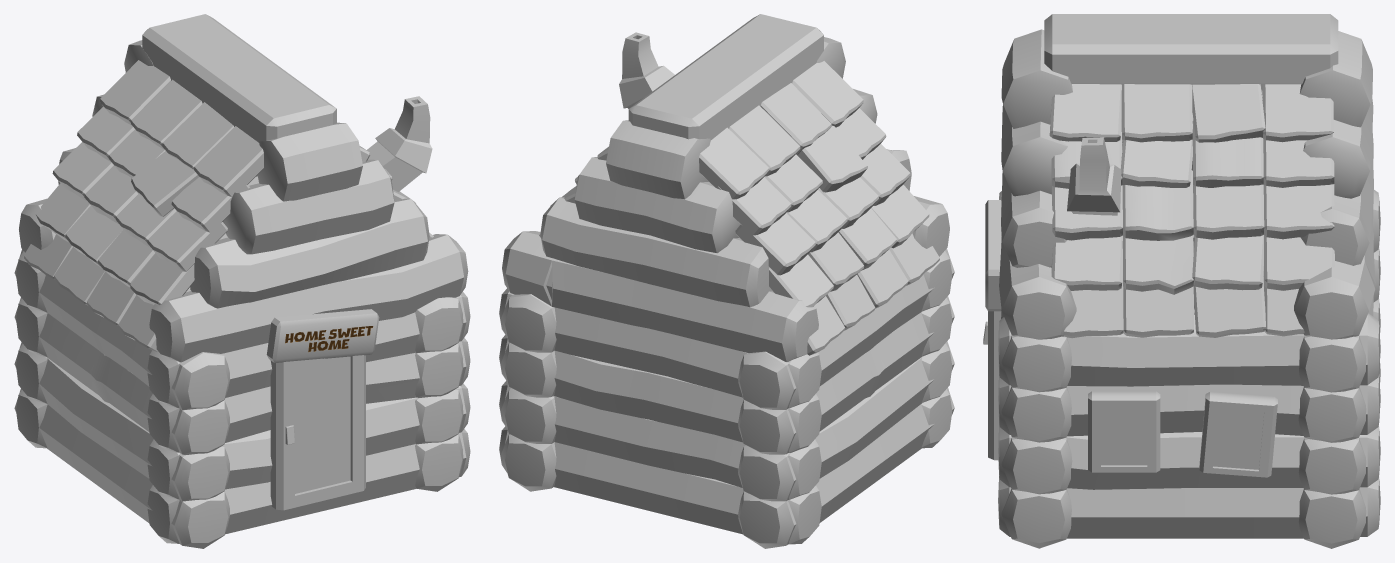
The model's file is Cabin.fbx.
3 views of the same model, side by side, from view 1: azimuth 30°, elevation 25°; view 2: azimuth 150°, elevation 25°; view 3: azimuth 270°, elevation 25° (orthographic). The views are drawn at different scales.
Visible parts, largest first — view 1: Cabin; view 2: Cabin; view 3: Cabin.
Part boxes in pixels (left/top/right/bottom): Cabin: left=14, top=14, right=470, bottom=548; Cabin: left=499, top=14, right=954, bottom=548; Cabin: left=983, top=14, right=1380, bottom=548.
Size of the model in its own units: 247 by 300 by 244.
